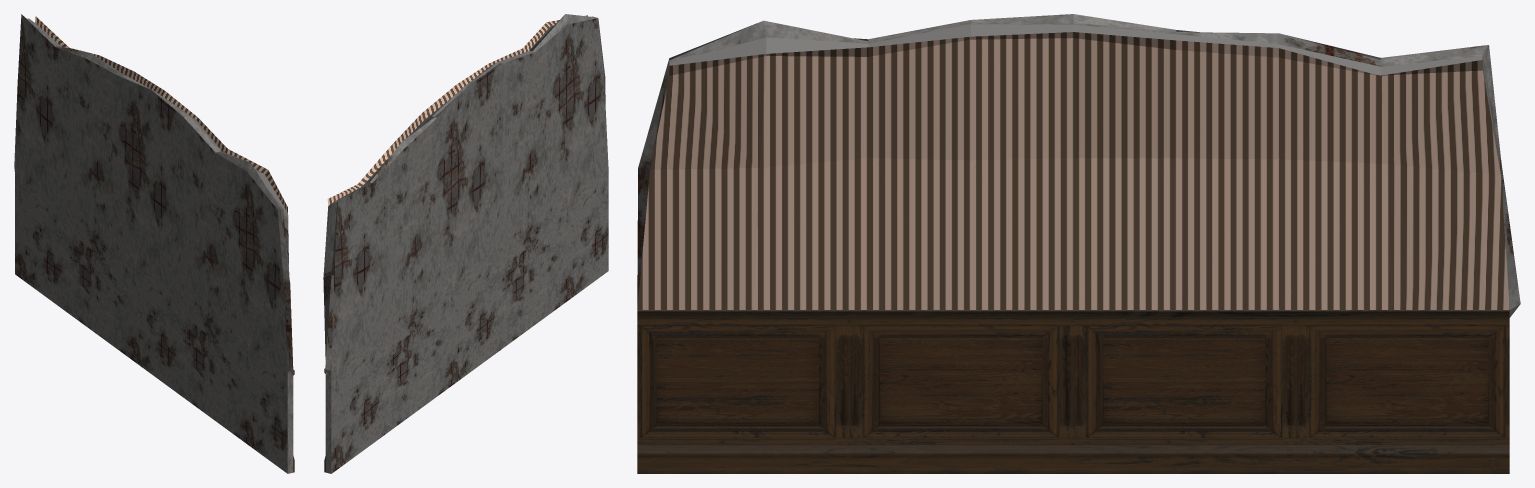
The model's file is SceneWall.gltf.
The picture shows the model from 3 angles, left to right: view 1: azimuth 30°, elevation 25°; view 2: azimuth 150°, elevation 25°; view 3: azimuth 270°, elevation 25°; orthographic projection. The views are drawn at different scales.
Visible parts, largest first — view 1: Borken Wall; view 2: Borken Wall; view 3: Borken Wall.
Boxes of the visible parts, bbox=[...] form: Borken Wall: bbox=[14, 14, 294, 473]; Borken Wall: bbox=[323, 14, 608, 473]; Borken Wall: bbox=[637, 14, 1520, 473].
Size of the model in its own units: 0.7522 by 9.77 by 17.21.
3 materials, 3 textured.
